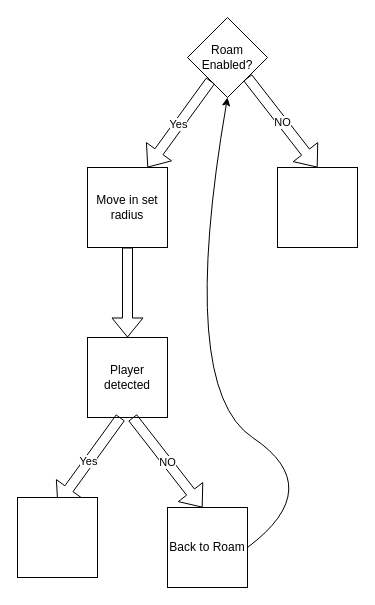
The diagram is 375 pixels wide and 605 high, and some of its shapes have lost their labels. Each missing label, with the centre of its shape:
"Attack" belongs at [57,537].
"Don't Move" belongs at [317,207].
